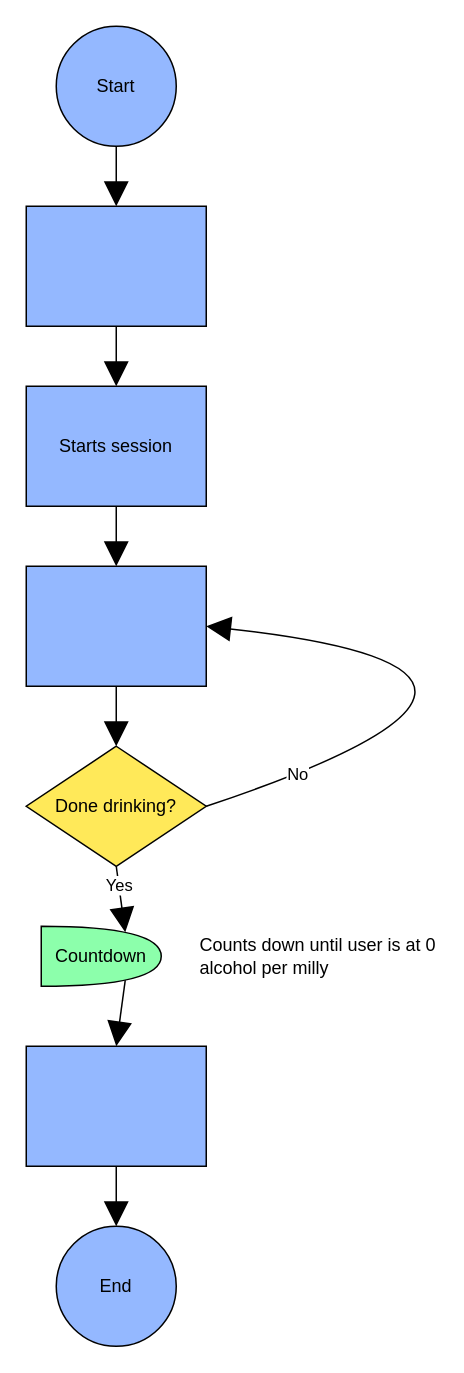
The diagram is 464 pixels wide and 1373 high, and some of its shapes have lost their labels. The shapes that lost their labels are listed below. From the top down, each one's centre as x and y in pixels, then its label:
pixel 115 265: Starts drinking
pixel 115 625: Adds beverage
pixel 115 1105: Ends session
